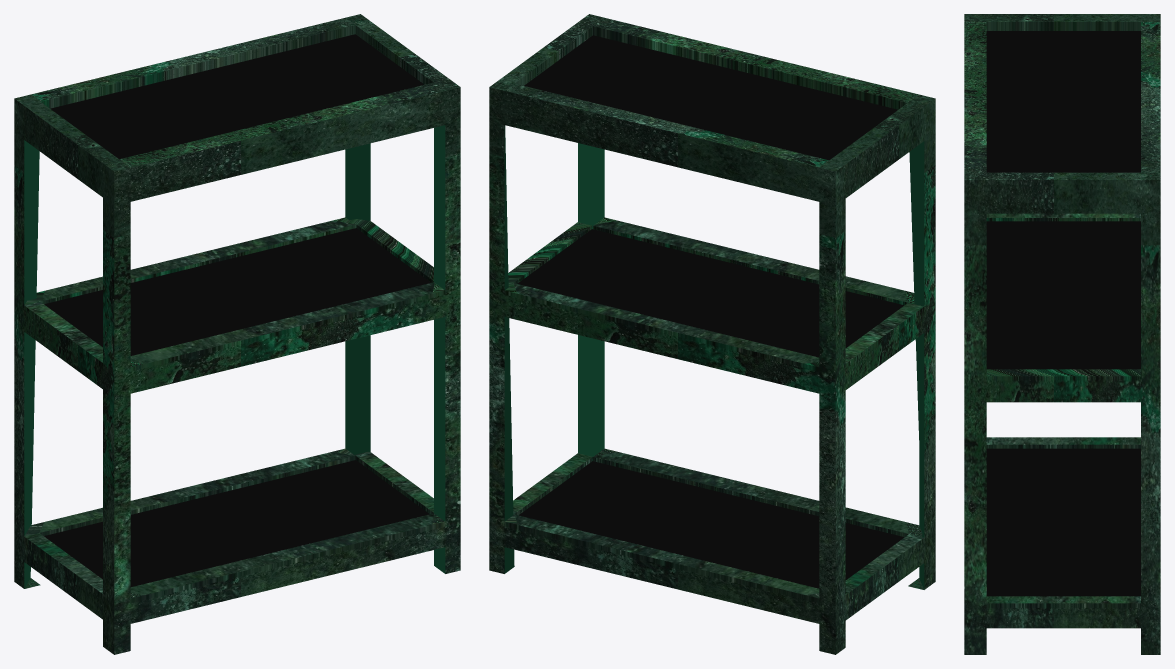
Rendered from Tool cabinet.fbx.
The picture shows the model from 3 angles, left to right: view 1: azimuth 30°, elevation 25°; view 2: azimuth 150°, elevation 25°; view 3: azimuth 270°, elevation 25°; orthographic projection.
Parts seen in each view (by area): view 1: Cube; view 2: Cube; view 3: Cube.
Part boxes in pixels (left/top/right/bottom): Cube: left=14, top=14, right=460, bottom=654; Cube: left=489, top=14, right=935, bottom=654; Cube: left=964, top=14, right=1160, bottom=654.
Size of the model in its own units: 90 by 120 by 45.
Materials: 2 (1 with a texture image).
